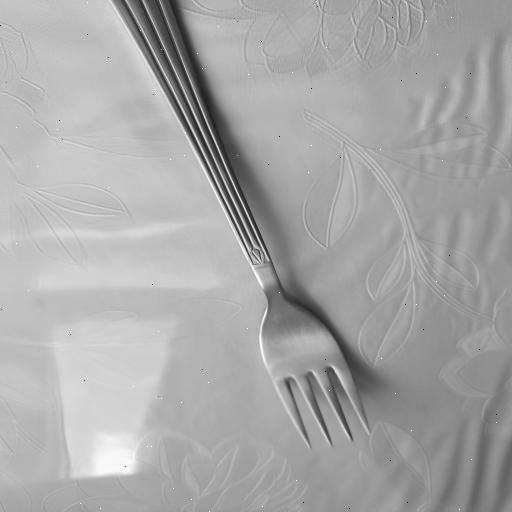fork: (110, 0, 371, 452)
